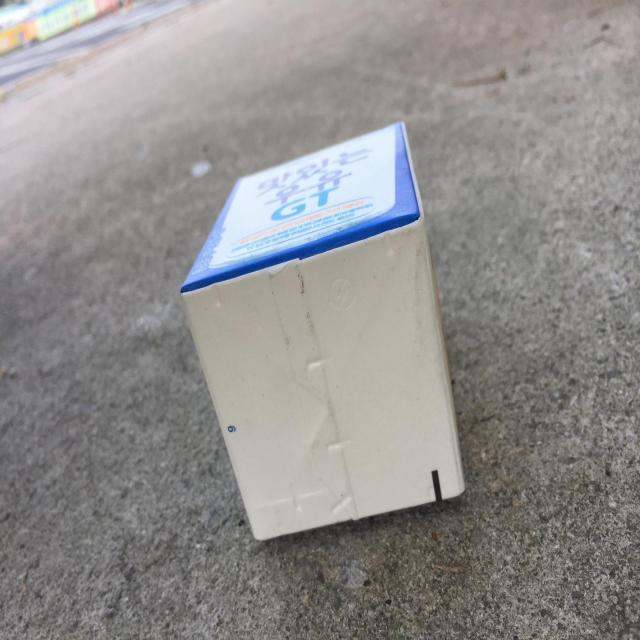paperpack: (181, 122, 465, 540)
